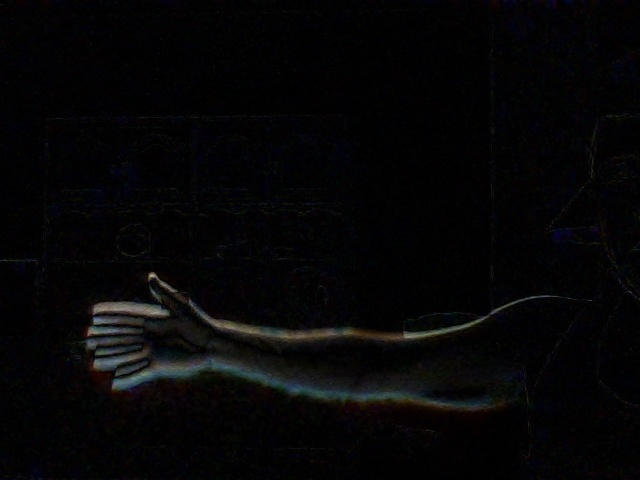hand_pa: (79, 271, 214, 394)
